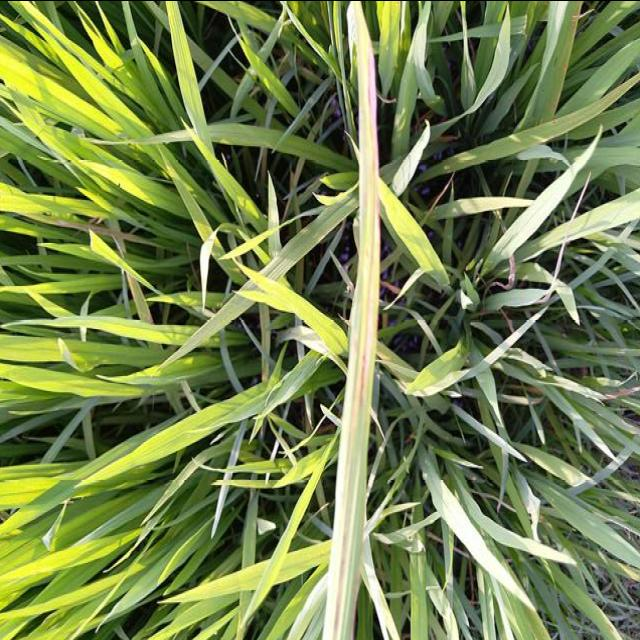Leaf Streak: (322, 0, 382, 640)
